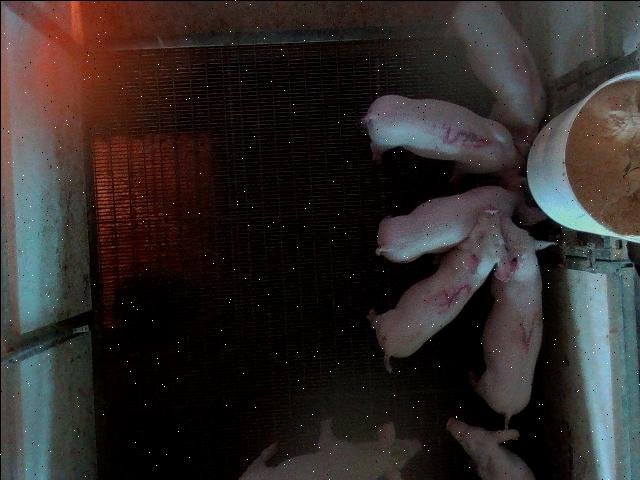pig-1: (470, 217, 554, 425)
pig-3: (361, 94, 524, 186)
pig-4: (451, 1, 545, 150)
pig-5: (366, 208, 516, 371)
